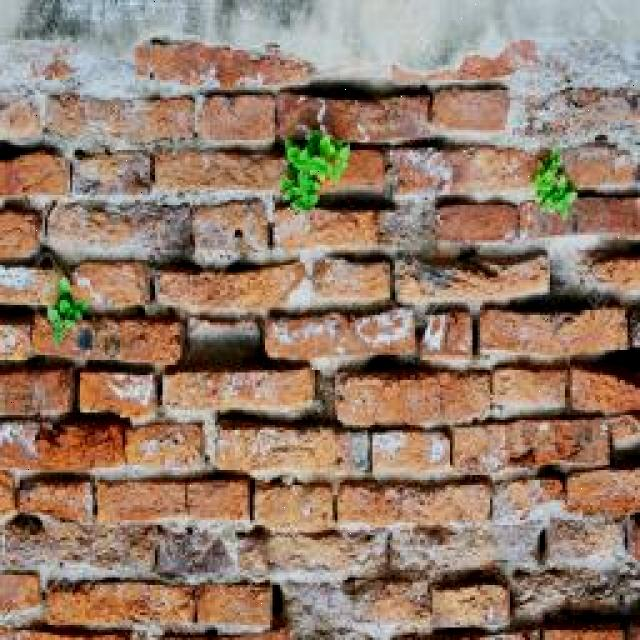crack: (1, 34, 638, 637), (280, 1, 631, 72), (7, 1, 313, 53), (502, 37, 640, 141), (43, 203, 182, 266), (27, 310, 178, 366), (17, 184, 318, 212), (164, 368, 323, 420), (97, 475, 244, 524), (44, 93, 181, 145), (414, 179, 638, 210), (298, 94, 432, 144), (187, 200, 278, 267), (151, 148, 281, 194), (152, 523, 253, 579), (66, 260, 159, 314), (153, 251, 308, 279), (70, 151, 161, 196), (1, 367, 76, 421), (560, 144, 638, 194), (259, 257, 312, 317)
dampens: (277, 78, 435, 103)
dampness: (12, 392, 609, 637), (269, 79, 456, 271), (0, 513, 283, 636), (4, 414, 196, 475), (442, 196, 640, 243)
vegetation: (402, 186, 550, 302), (20, 262, 102, 363), (4, 508, 115, 569), (546, 241, 638, 312), (277, 126, 351, 214), (530, 148, 577, 219), (284, 98, 336, 150), (1, 420, 44, 462), (34, 244, 74, 281), (39, 263, 67, 311), (38, 56, 77, 82)
